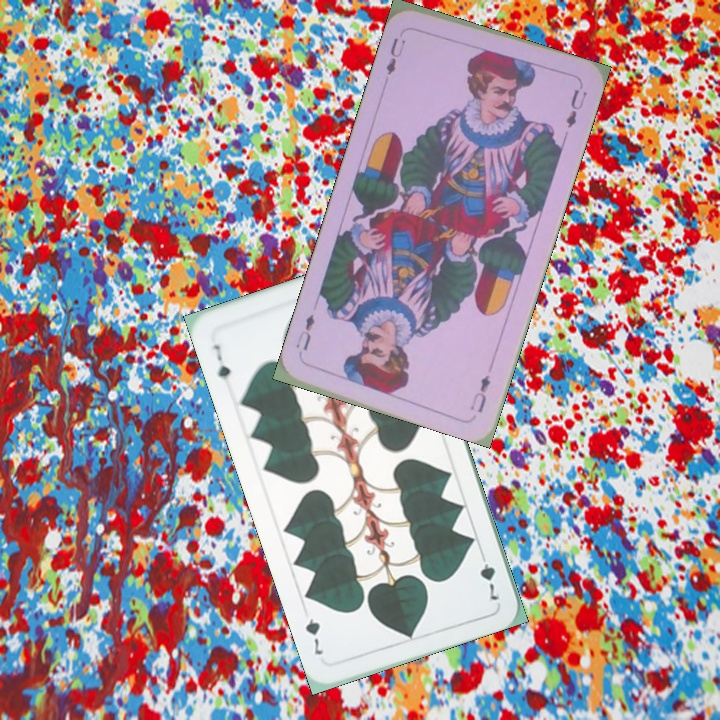EU: (466, 370, 493, 415), (382, 33, 408, 78)
G7: (475, 547, 502, 603), (206, 340, 234, 383)
